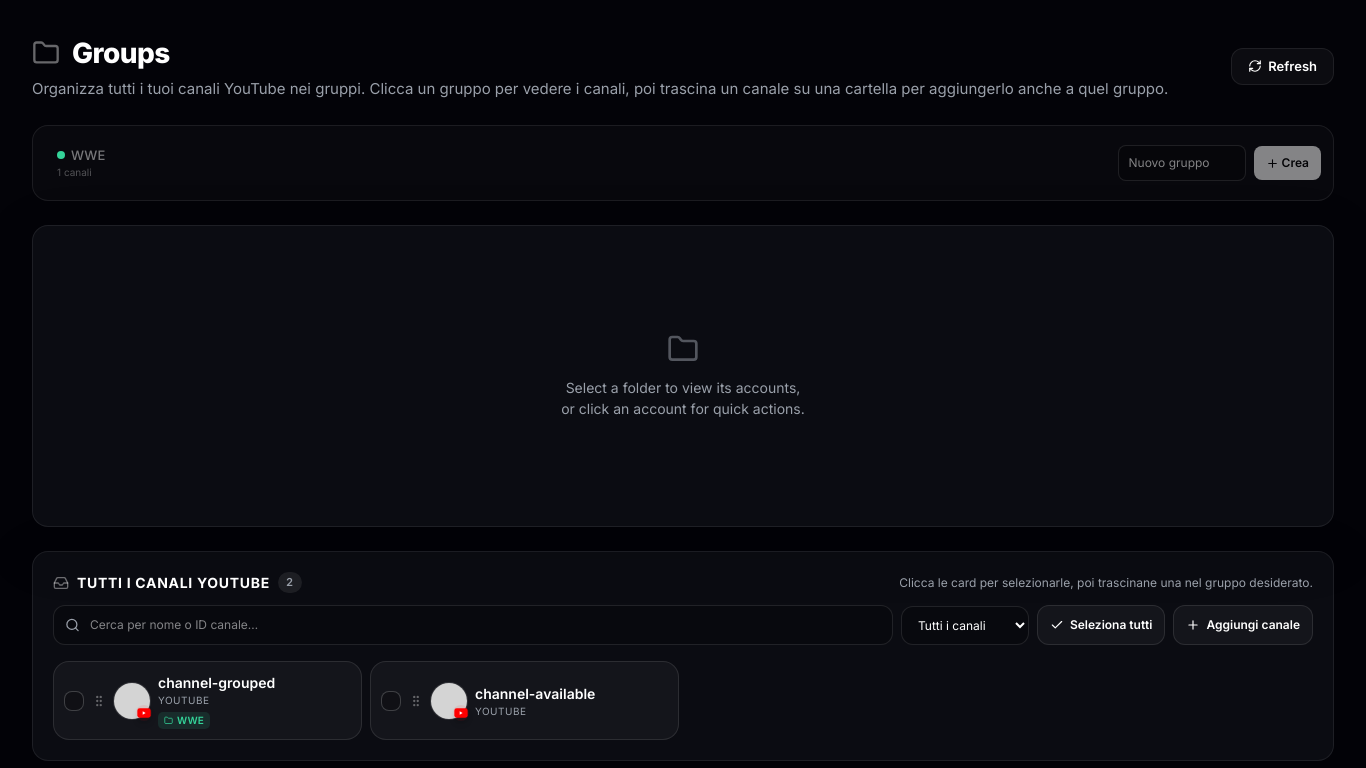
it: GroupsPage › shows the unassigned empty state when every channel is already organized
Select "Non assegnati" in the dropdown named "Filtra canali" at (965, 625), box [901,606,1029,644]
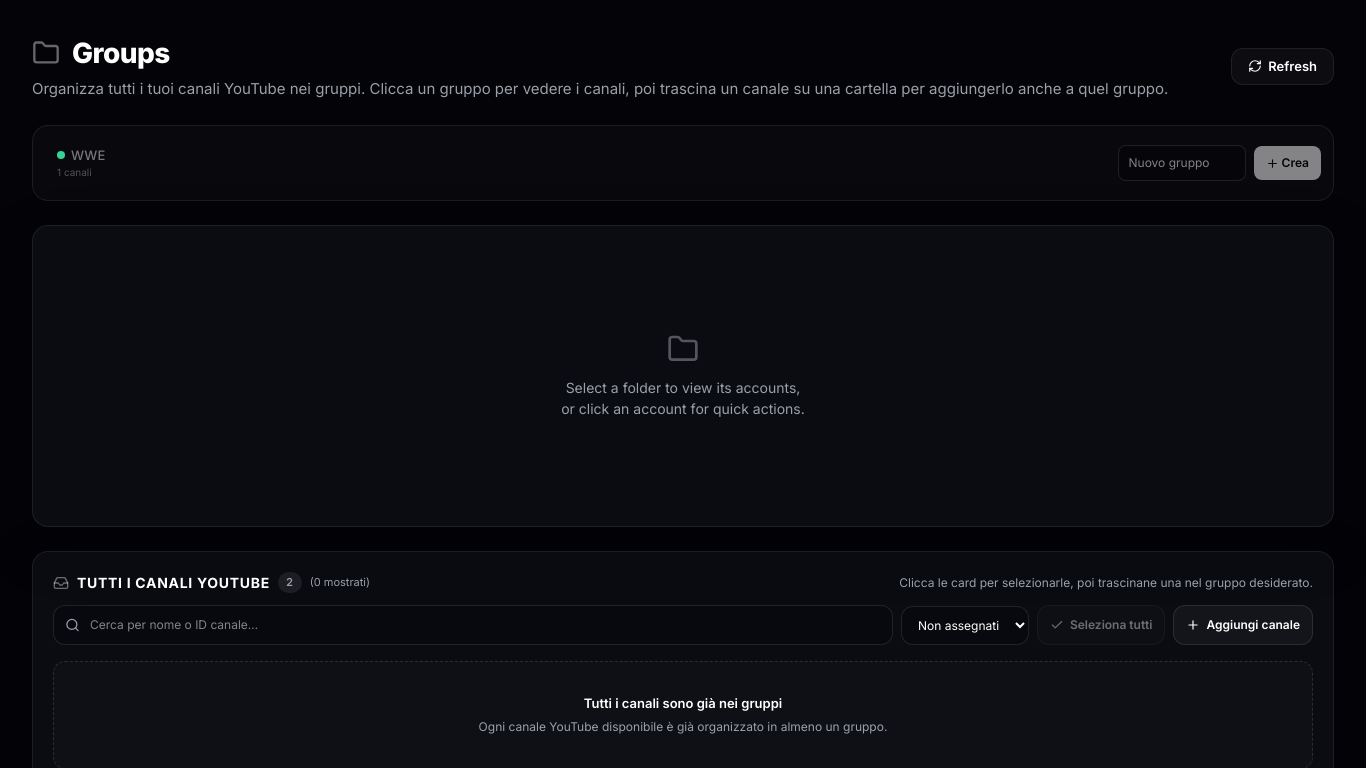
Check: the element with test id "youtube-channels-empty" shows "Tutti i canali sono già nei gruppi", box [584,695,782,711]
